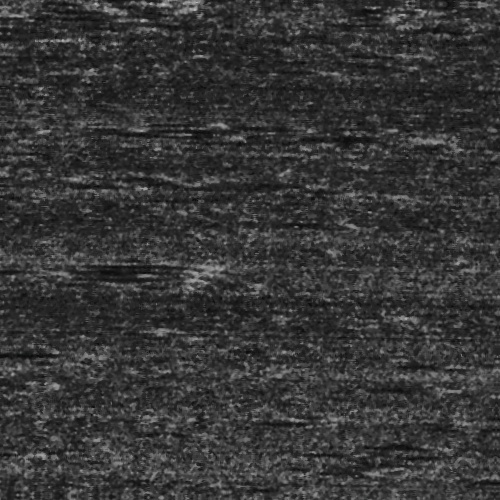object: (361, 130, 466, 139), (37, 353, 130, 360), (150, 262, 223, 269), (166, 268, 239, 275), (242, 127, 305, 132), (0, 453, 55, 458), (24, 271, 77, 276), (154, 276, 207, 281), (95, 18, 148, 21)
shadow: (307, 130, 413, 139), (78, 262, 186, 269), (95, 268, 202, 275), (126, 127, 273, 132), (0, 353, 83, 360), (72, 276, 180, 281), (0, 18, 121, 21), (0, 271, 51, 276), (0, 453, 23, 458)
